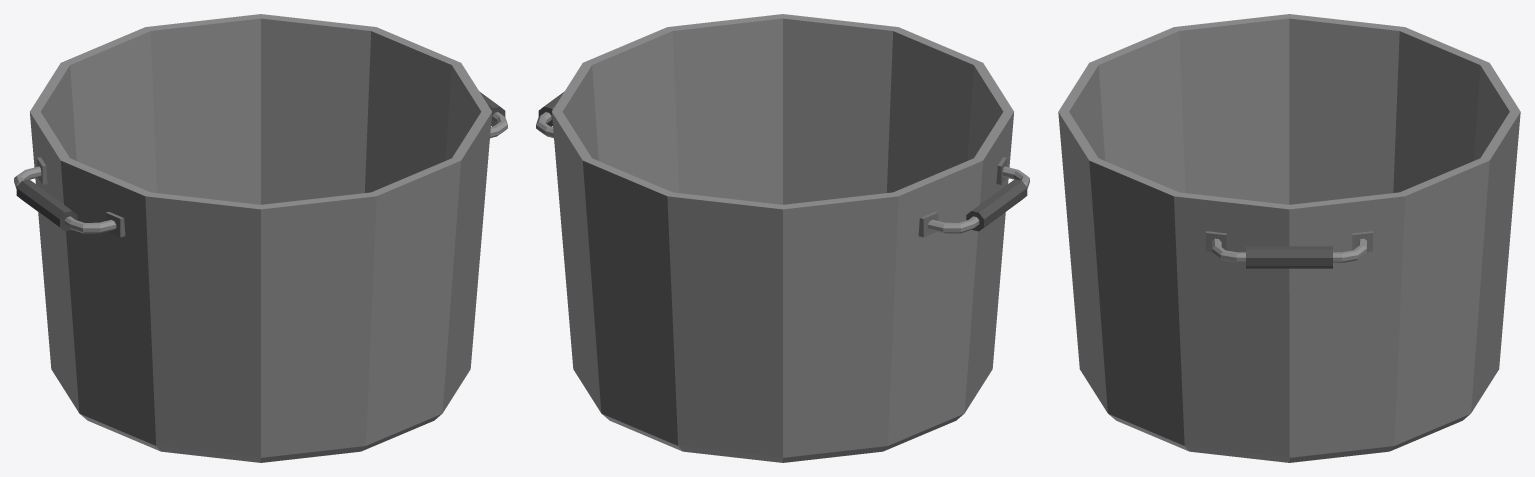
File: Pan_03_C1.fbx
3 renders of one model, left to right at view 1: azimuth 30°, elevation 25°; view 2: azimuth 150°, elevation 25°; view 3: azimuth 270°, elevation 25°, orthographic.
Visible parts, largest first — view 1: Pan_03_C1; view 2: Pan_03_C1; view 3: Pan_03_C1.
Boxes of the visible parts, bbox=[...] form: Pan_03_C1: bbox=[14, 14, 507, 462]; Pan_03_C1: bbox=[536, 14, 1029, 462]; Pan_03_C1: bbox=[1058, 14, 1520, 462].
Size of the model in its own units: 31.07 by 17.77 by 27.92.
